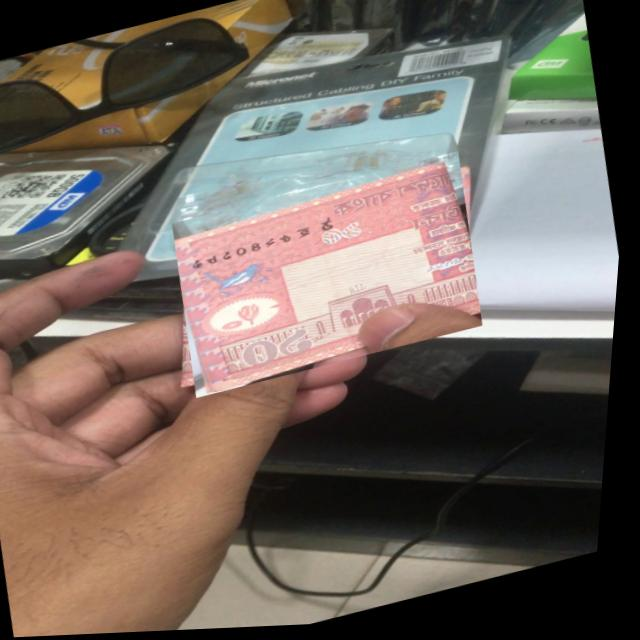Taka: (165, 154, 498, 401)
